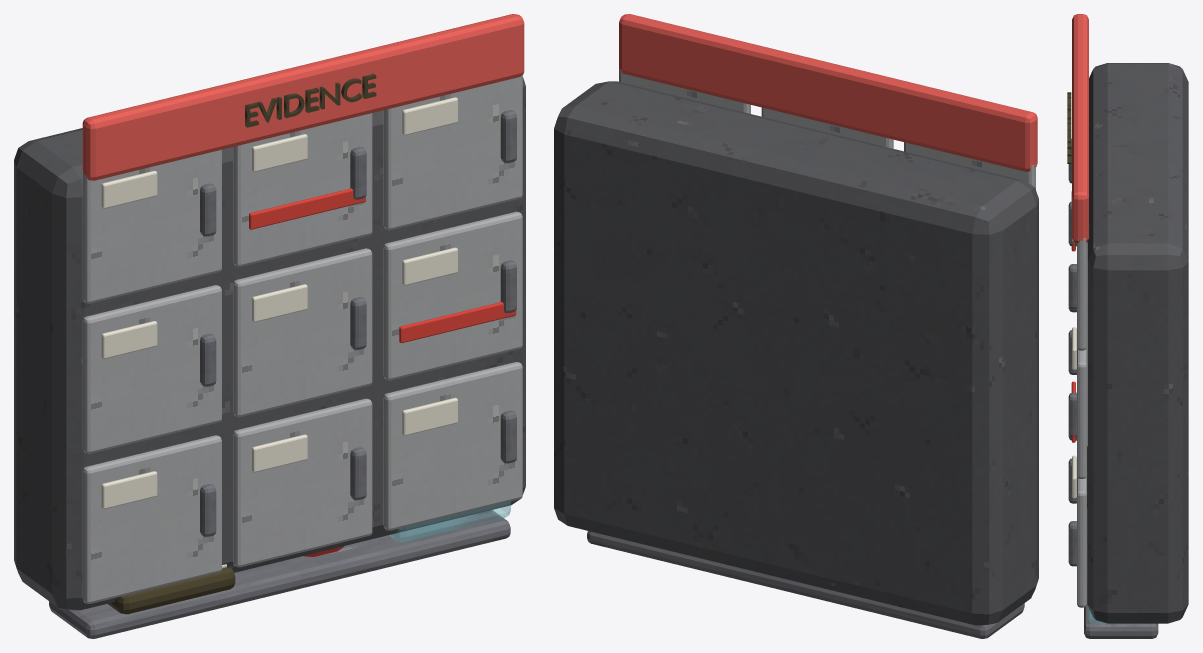
File: decor_sec_evidence_wall.glb
The picture shows the model from 3 angles, left to right: view 1: azimuth 30°, elevation 25°; view 2: azimuth 150°, elevation 25°; view 3: azimuth 270°, elevation 25°; orthographic projection. The views are drawn at different scales.
Parts seen in each view (by area): view 1: DEC_SecEvidenceWall__Cabinet_Body, DEC_SecEvidenceWall__Header, DEC_SecEvidenceWall__Locker_Door_5, DEC_SecEvidenceWall__Locker_Door_8, DEC_SecEvidenceWall__Locker_Door_7, DEC_SecEvidenceWall__Locker_Door_9, DEC_SecEvidenceWall__Locker_Door_4, DEC_SecEvidenceWall__Locker_Door_6, DEC_SecEvidenceWall__Locker_Door_1, DEC_SecEvidenceWall__Locker_Door_3, DEC_SecEvidenceWall__Locker_Door_2, DEC_SecEvidenceWall__Log_Shelf (+23 smaller); view 2: DEC_SecEvidenceWall__Cabinet_Body, DEC_SecEvidenceWall__Header, DEC_SecEvidenceWall__Log_Shelf, DEC_SecEvidenceWall__Locker_Door_1, DEC_SecEvidenceWall__Locker_Door_2, DEC_SecEvidenceWall__Locker_Door_3; view 3: DEC_SecEvidenceWall__Cabinet_Body, DEC_SecEvidenceWall__Header, DEC_SecEvidenceWall__Log_Shelf, DEC_SecEvidenceWall__Locker_Door_9, DEC_SecEvidenceWall__Locker_Door_6, DEC_SecEvidenceWall__Locker_Door_3, DEC_SecEvidenceWall__Locker_Handle_3, DEC_SecEvidenceWall__Locker_Handle_9, DEC_SecEvidenceWall__Locker_Handle_6, DEC_SecEvidenceWall__Header_Text, DEC_SecEvidenceWall__Locker_Tag_9, DEC_SecEvidenceWall__Locker_Tag_6 (+3 smaller).
Boxes of the visible parts, left/top/right/bottom form: DEC_SecEvidenceWall__Cabinet_Body: left=14, top=76, right=525, bottom=610; DEC_SecEvidenceWall__Header: left=82, top=14, right=524, bottom=180; DEC_SecEvidenceWall__Locker_Door_5: left=233, top=248, right=372, bottom=417; DEC_SecEvidenceWall__Locker_Door_8: left=233, top=398, right=372, bottom=567; DEC_SecEvidenceWall__Locker_Door_7: left=82, top=435, right=221, bottom=603; DEC_SecEvidenceWall__Locker_Door_9: left=383, top=362, right=522, bottom=530; DEC_SecEvidenceWall__Locker_Door_4: left=82, top=285, right=221, bottom=453; DEC_SecEvidenceWall__Locker_Door_6: left=383, top=211, right=522, bottom=380; DEC_SecEvidenceWall__Locker_Door_1: left=82, top=149, right=221, bottom=303; DEC_SecEvidenceWall__Locker_Door_3: left=383, top=75, right=522, bottom=230; DEC_SecEvidenceWall__Locker_Door_2: left=233, top=113, right=372, bottom=266; DEC_SecEvidenceWall__Log_Shelf: left=49, top=510, right=510, bottom=638; DEC_SecEvidenceWall__Cabinet_Body: left=554, top=81, right=1038, bottom=625; DEC_SecEvidenceWall__Header: left=619, top=14, right=1037, bottom=171; DEC_SecEvidenceWall__Log_Shelf: left=587, top=531, right=1024, bottom=638; DEC_SecEvidenceWall__Locker_Door_1: left=904, top=142, right=1035, bottom=189; DEC_SecEvidenceWall__Locker_Door_2: left=761, top=107, right=893, bottom=148; DEC_SecEvidenceWall__Locker_Door_3: left=619, top=69, right=750, bottom=113; DEC_SecEvidenceWall__Cabinet_Body: left=1087, top=63, right=1188, bottom=623; DEC_SecEvidenceWall__Header: left=1072, top=14, right=1088, bottom=243; DEC_SecEvidenceWall__Log_Shelf: left=1084, top=508, right=1158, bottom=638; DEC_SecEvidenceWall__Locker_Door_9: left=1077, top=476, right=1086, bottom=607; DEC_SecEvidenceWall__Locker_Door_6: left=1077, top=348, right=1086, bottom=478; DEC_SecEvidenceWall__Locker_Door_3: left=1077, top=238, right=1086, bottom=350; DEC_SecEvidenceWall__Locker_Handle_3: left=1068, top=264, right=1076, bottom=309; DEC_SecEvidenceWall__Locker_Handle_9: left=1068, top=521, right=1076, bottom=566; DEC_SecEvidenceWall__Locker_Handle_6: left=1068, top=392, right=1076, bottom=437; DEC_SecEvidenceWall__Header_Text: left=1067, top=92, right=1071, bottom=163; DEC_SecEvidenceWall__Locker_Tag_9: left=1072, top=455, right=1076, bottom=498; DEC_SecEvidenceWall__Locker_Tag_6: left=1072, top=327, right=1076, bottom=370.
Size of the model in its own units: 1.38 by 1.47 by 0.359.
Materials: 8 (3 with a texture image).
